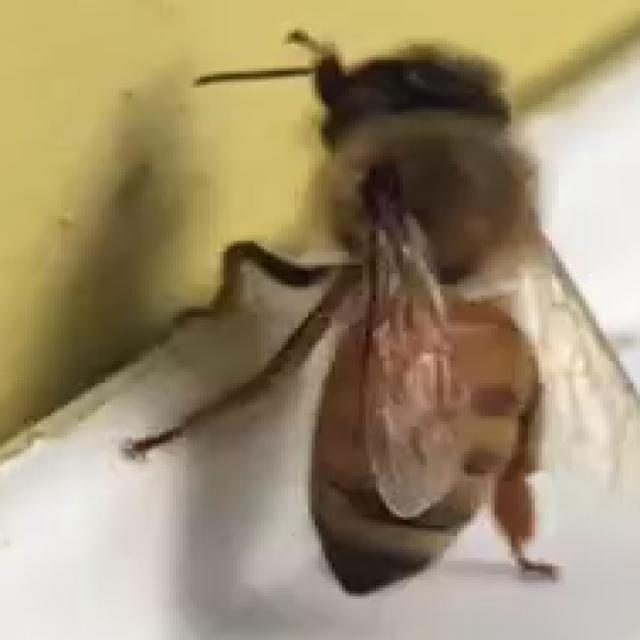honeybee: (199, 22, 640, 635)
